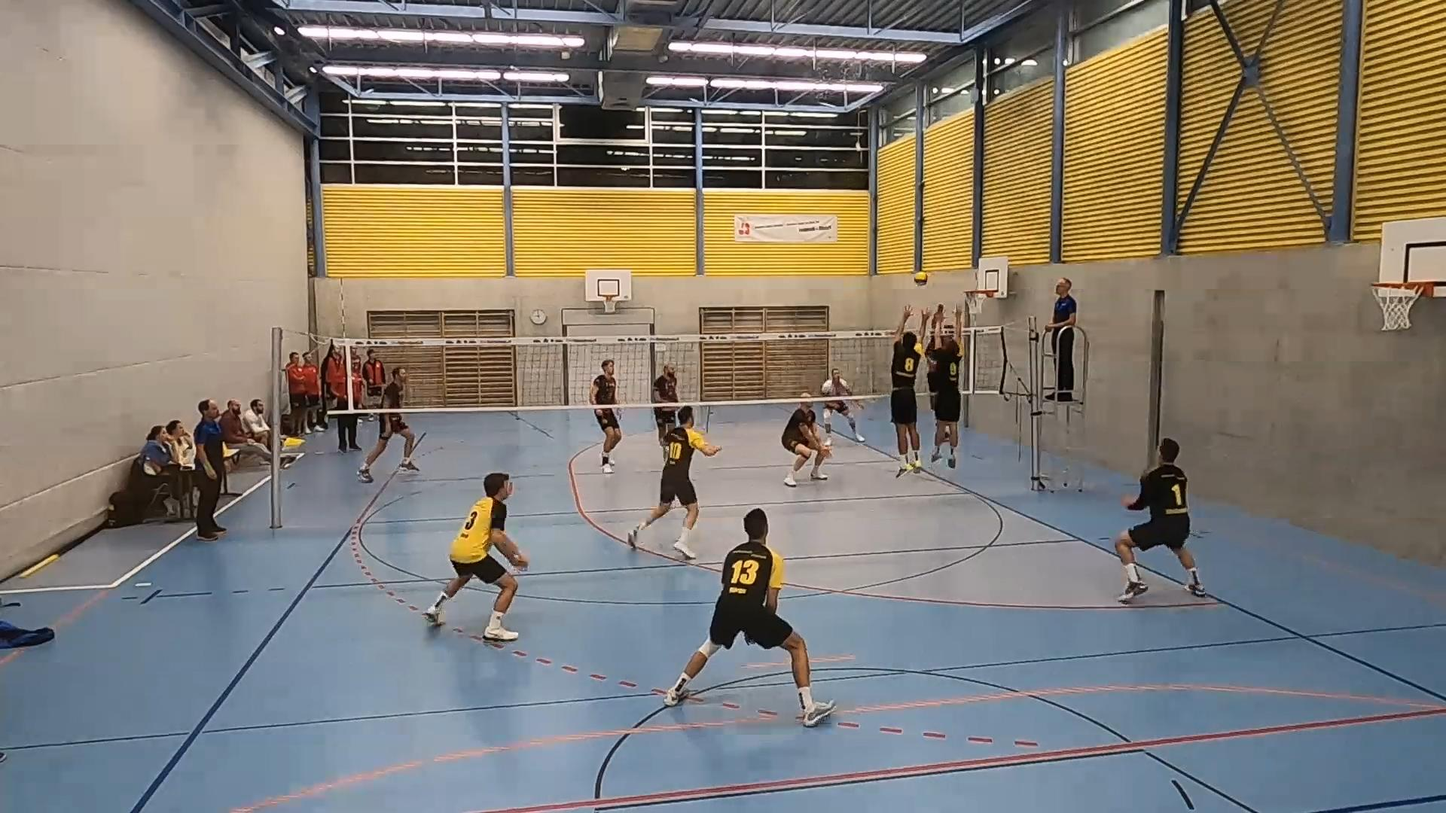Block: (928, 303, 975, 476), (892, 305, 934, 481)
Player: (664, 507, 834, 726), (423, 473, 528, 641), (1115, 438, 1206, 603), (627, 406, 720, 559), (781, 393, 831, 486), (358, 411, 419, 483), (589, 359, 622, 473), (821, 368, 865, 446), (652, 364, 679, 449)
ball: (915, 271, 928, 285)
